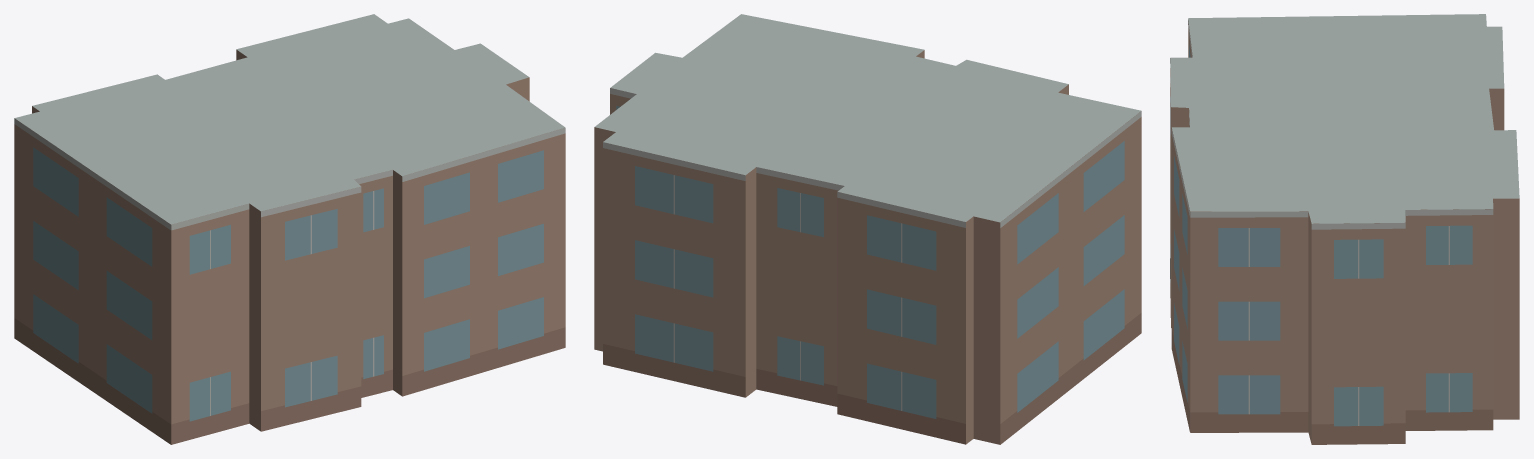
Rendered from survey-upis-32495639.glb.
3 renders of one model, left to right at view 1: azimuth 30°, elevation 25°; view 2: azimuth 150°, elevation 25°; view 3: azimuth 270°, elevation 25°, orthographic.
Parts seen in each view (by area): view 1: survey-upis-32495639.tmp; view 2: survey-upis-32495639.tmp; view 3: survey-upis-32495639.tmp.
Boxes of the visible parts, x1=… form: survey-upis-32495639.tmp: x1=14, y1=14, x2=565, y2=444; survey-upis-32495639.tmp: x1=594, y1=14, x2=1141, y2=444; survey-upis-32495639.tmp: x1=1170, y1=14, x2=1519, y2=444.
Size of the model in its own units: 18.63 by 9.15 by 13.12.
